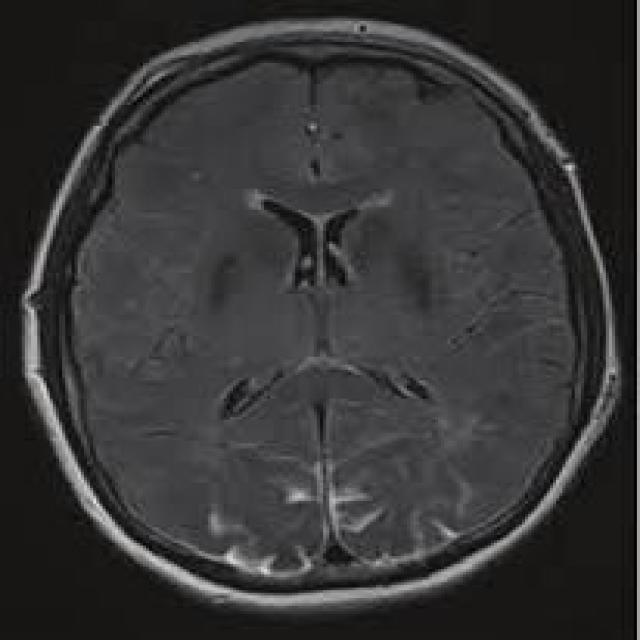No_Tumor: (23, 21, 615, 607)
